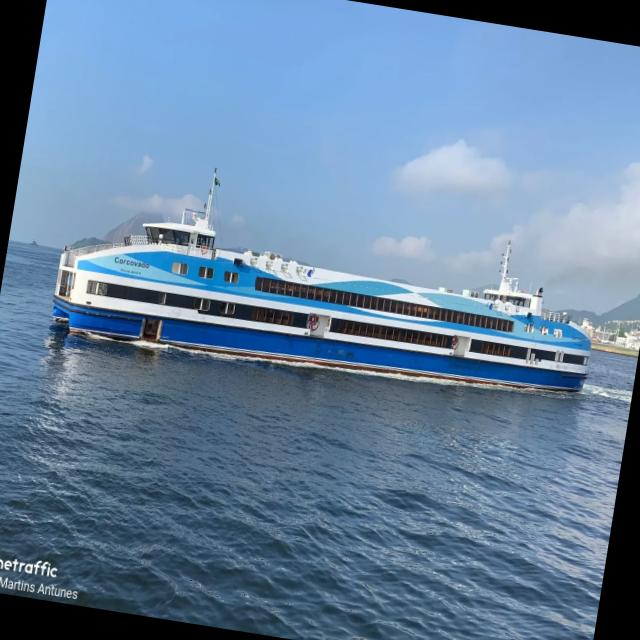Passenger: (53, 172, 591, 392)
